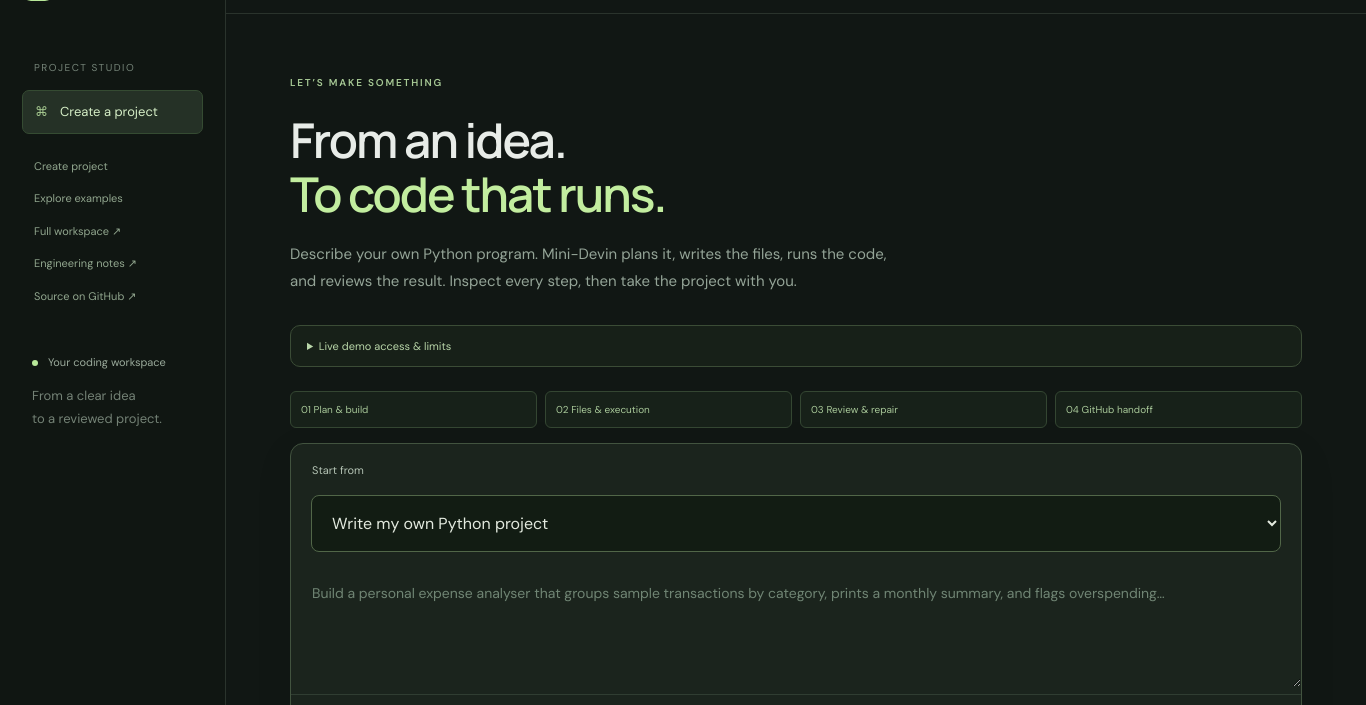
Test: public demo needs no token, shows limits on selection/run, and hides private history
The image size is (1366, 705).
Select "Summarize sample CSV scores" in the dropdown labelled "Start from": coordinates (796, 523) 311,494 -> 1281,552
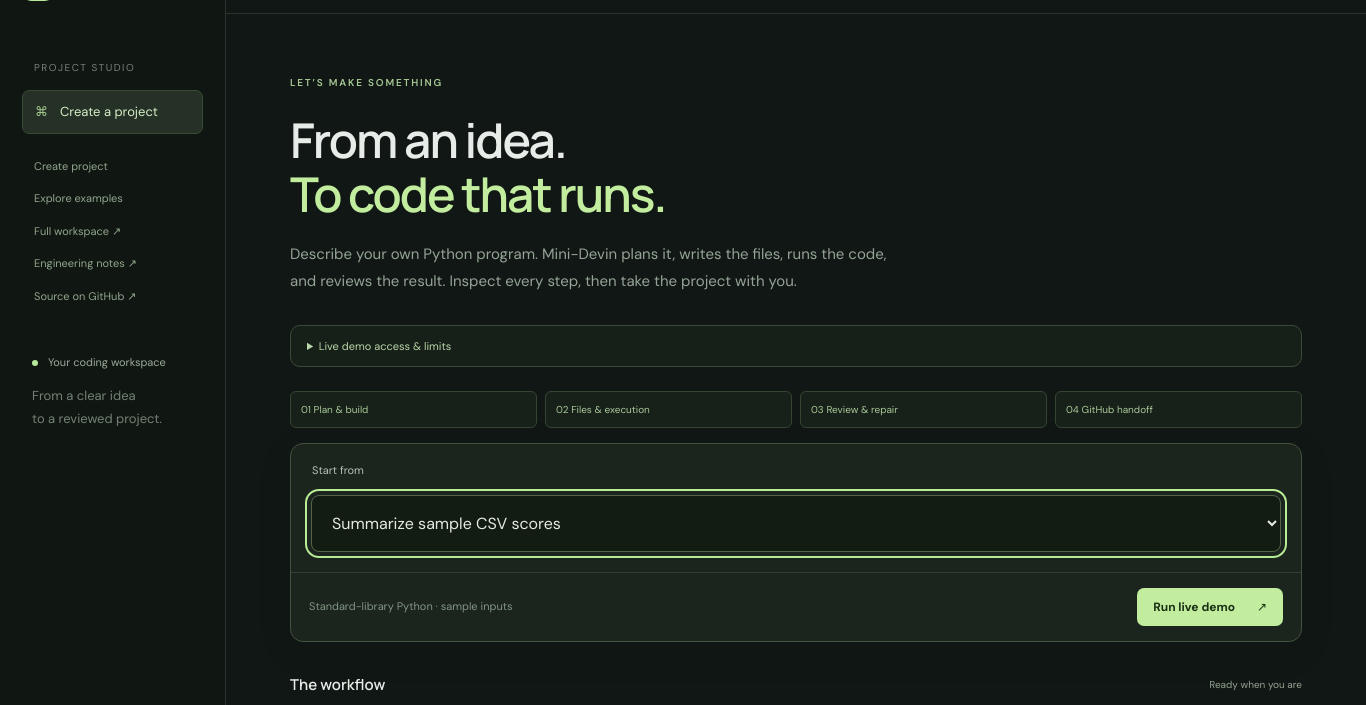
Click the button "Run live demo ↗": coordinates (1210, 606) 1137,588 -> 1283,626
(page scrolled)
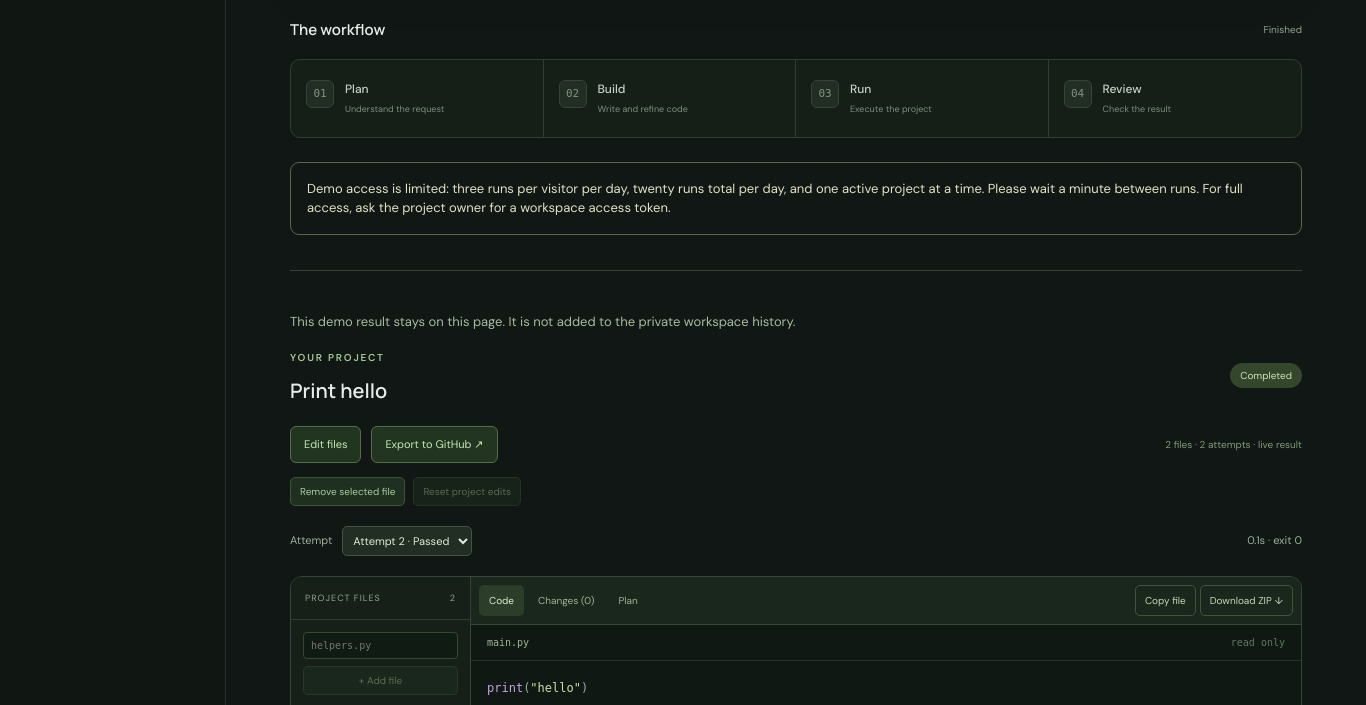
Now the 2nd message shows "twenty runs total per day", box 307,180 -> 1243,216
Now the text "not added to the private workspace history" is shown, box 290,312 -> 795,330
